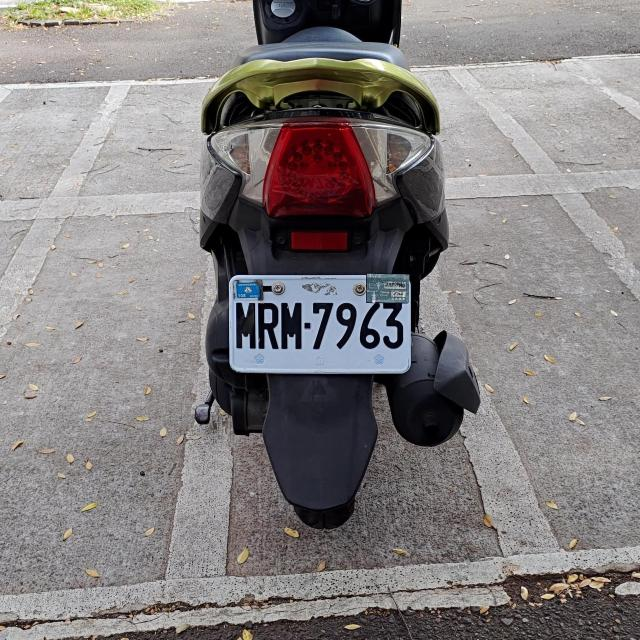W: (229, 273, 411, 373)
